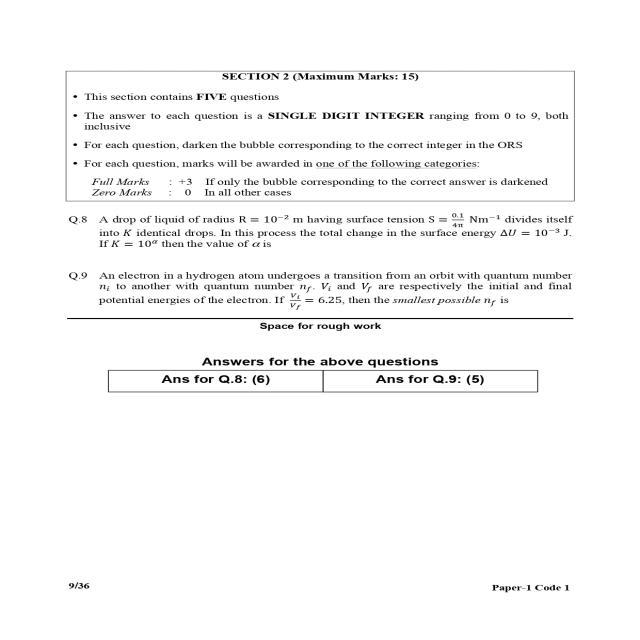Instruction: (32, 42, 614, 206)
Question_Answer_Block: (32, 208, 614, 260), (32, 264, 614, 316)
Question_Block: (32, 208, 614, 260), (32, 264, 614, 316)
Question_Paper_Area: (32, 43, 614, 448)
